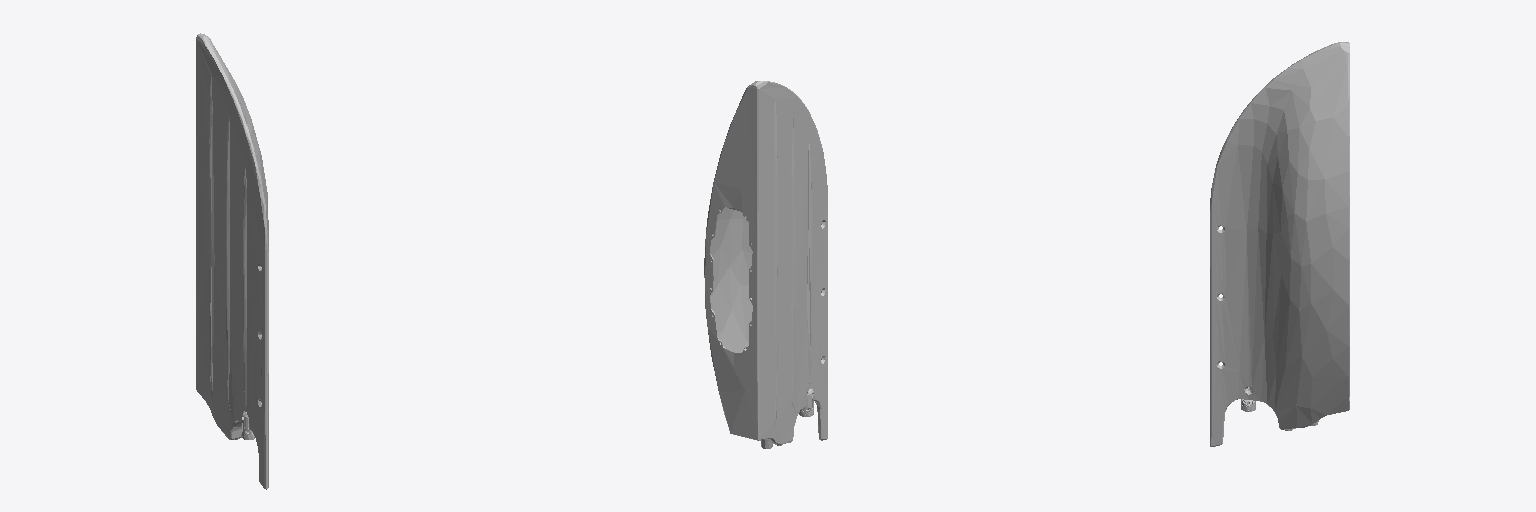
File: leftside_F1.obj
The picture shows the model from 3 angles: view 1: azimuth 30°, elevation 25°; view 2: azimuth 150°, elevation 25°; view 3: azimuth 270°, elevation 25°; orthographic projection.
Visible parts, largest first — view 1: Left_side; view 2: Left_side; view 3: Left_side.
Boxes of the visible parts, x1=… form: Left_side: x1=196, y1=33, x2=268, y2=489; Left_side: x1=704, y1=81, x2=827, y2=448; Left_side: x1=1210, y1=42, x2=1349, y2=446.
Bounding box in the file's own units: 0.1718 × 1.14 × 0.3585.